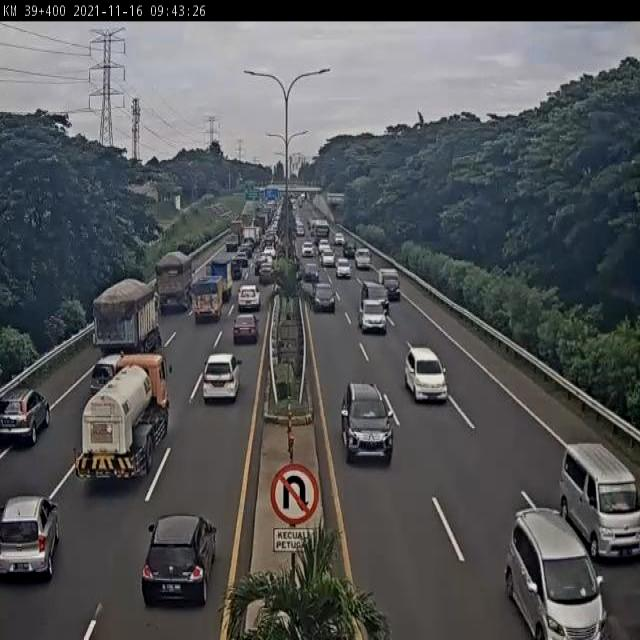Car: (505, 507, 607, 639), (128, 503, 230, 611), (0, 494, 60, 579), (340, 382, 395, 463), (0, 388, 51, 447), (404, 344, 447, 402), (201, 352, 241, 403), (359, 298, 388, 334), (232, 312, 260, 343), (378, 268, 401, 302), (237, 284, 261, 314), (313, 283, 336, 313), (258, 263, 278, 285), (335, 258, 352, 279), (354, 248, 371, 269), (304, 262, 320, 283), (320, 249, 336, 267), (333, 231, 347, 250), (343, 243, 356, 258), (302, 241, 314, 257)
Truck: (70, 361, 178, 489), (92, 279, 160, 363), (155, 251, 193, 314), (190, 274, 227, 324), (204, 261, 235, 291), (242, 224, 262, 250), (230, 216, 244, 245)
Van: (545, 435, 639, 560)
